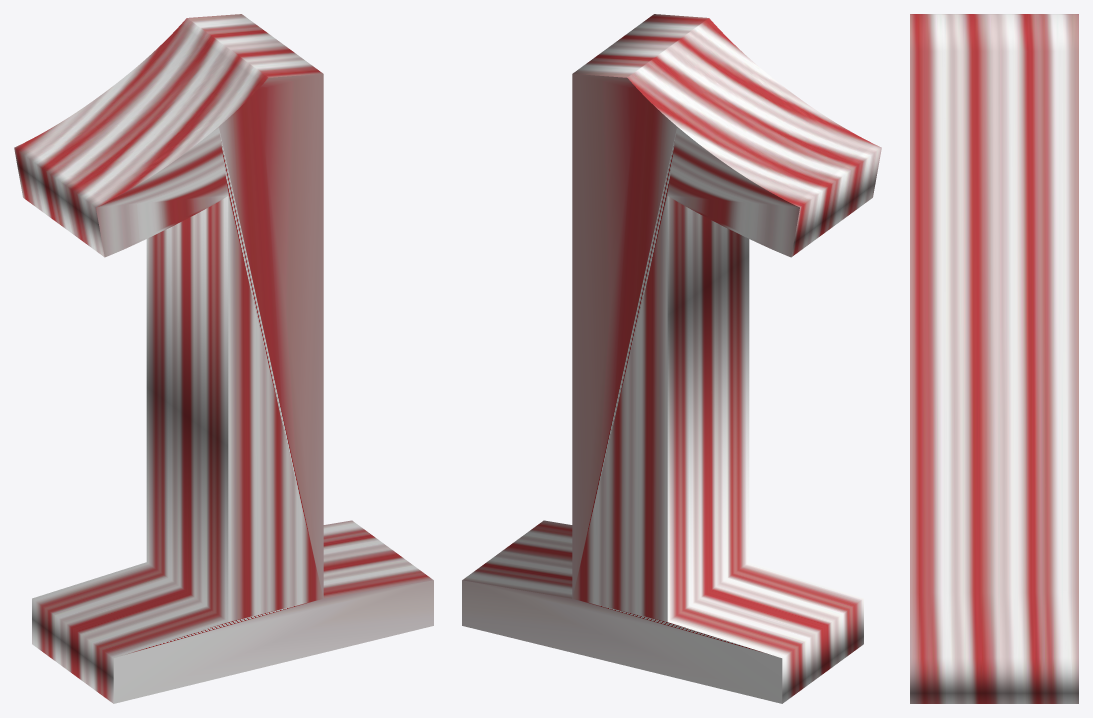
The picture shows the model from 3 angles, left to right: view 1: azimuth 30°, elevation 25°; view 2: azimuth 150°, elevation 25°; view 3: azimuth 270°, elevation 25°; orthographic projection. The views are drawn at different scales.
Visible parts, largest first — view 1: Text.010; view 2: Text.010; view 3: Text.010.
Boxes of the visible parts, x1,y1,x2,y2 form: Text.010: (14, 14, 433, 703); Text.010: (462, 14, 881, 703); Text.010: (910, 14, 1078, 703).
Bounding box in the file's own units: 0.2864 × 0.4763 × 0.12.
Materials: 1 (1 with a texture image).
